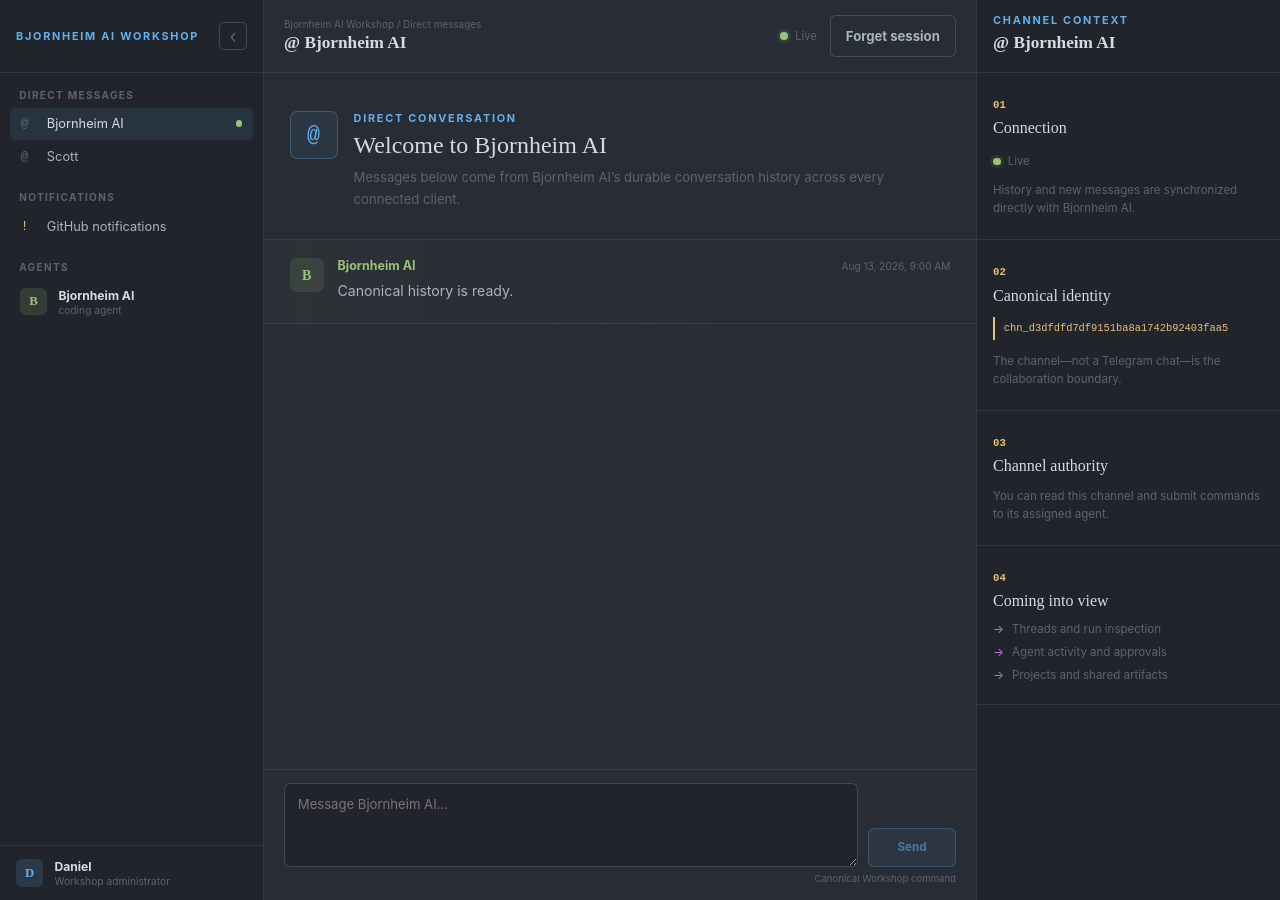
Workshop React client › updates run activity from the live stream without polling run state
Check: the text "Canonical history is ready." is shown, box [338,282,513,299]
In the text box labelled "Message Bjornheim AI": (571, 825) [284,783,858,867], type "Inspect the event stream"
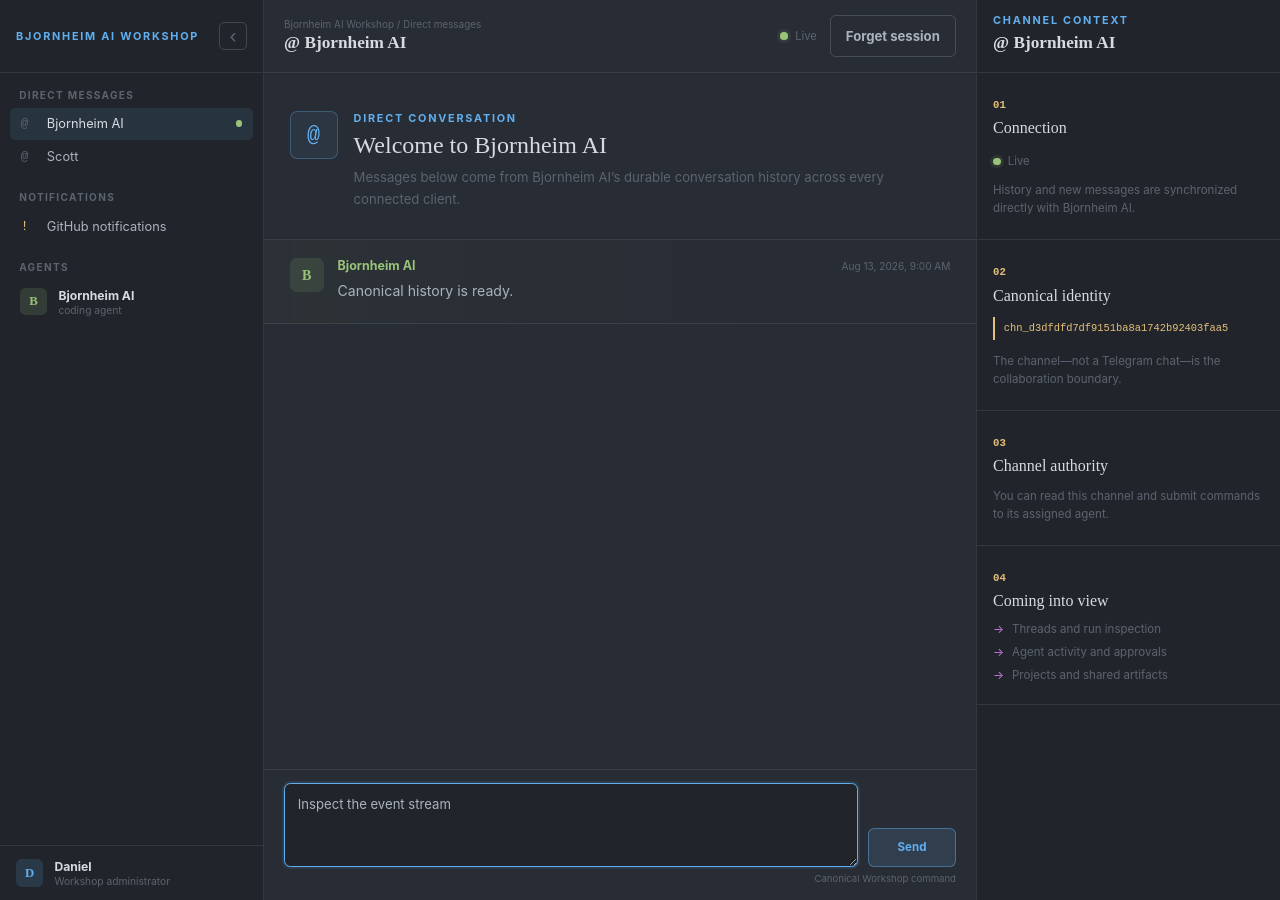
Click the button "Send": (912, 847) [868,828,956,867]
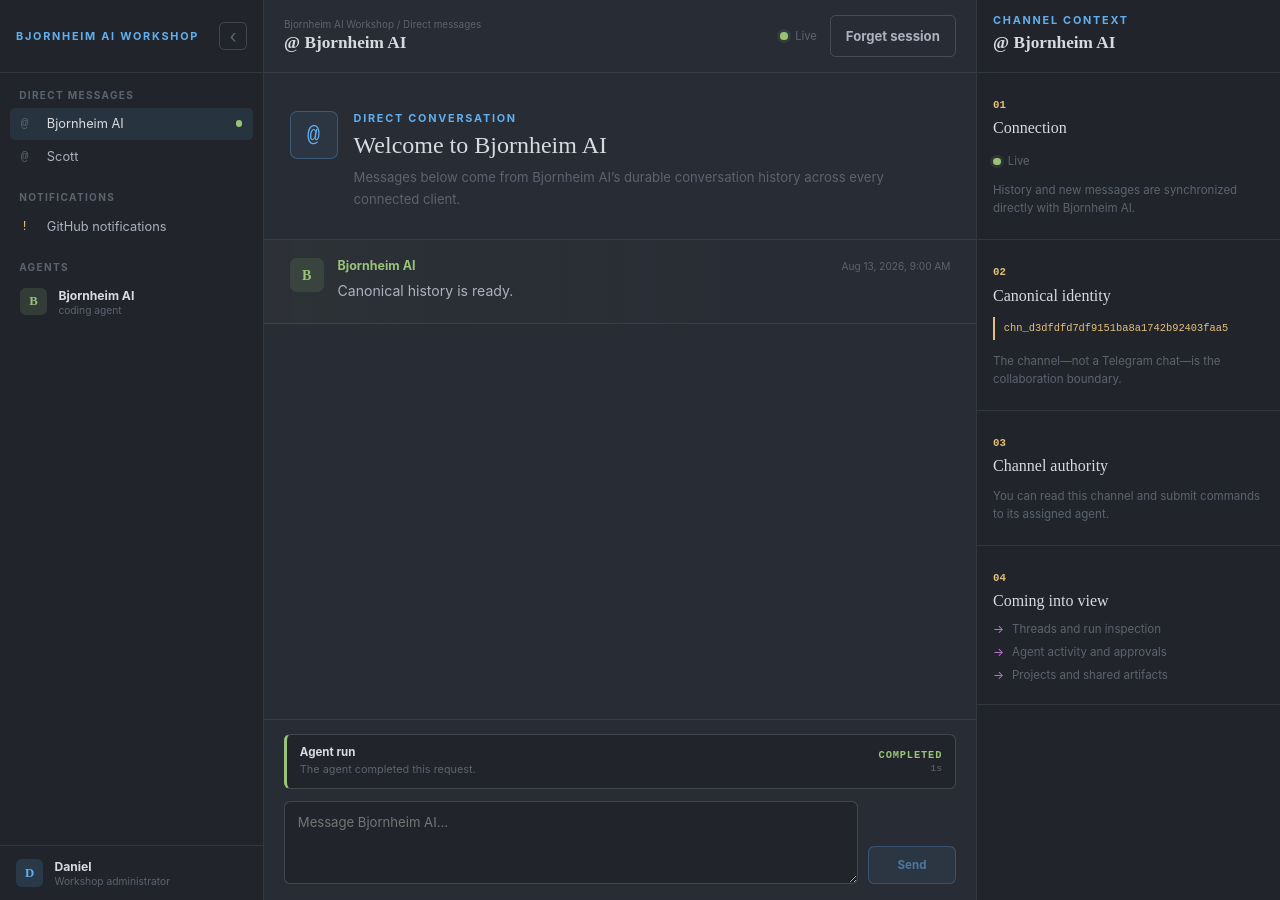
Check: the text "The agent completed this request." is shown, box [300,762,476,778]
